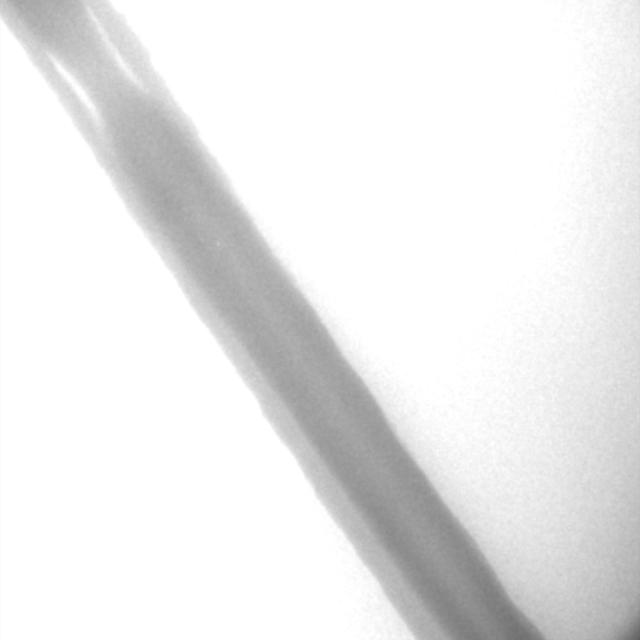unfused: (76, 0, 168, 117), (26, 41, 105, 166)
